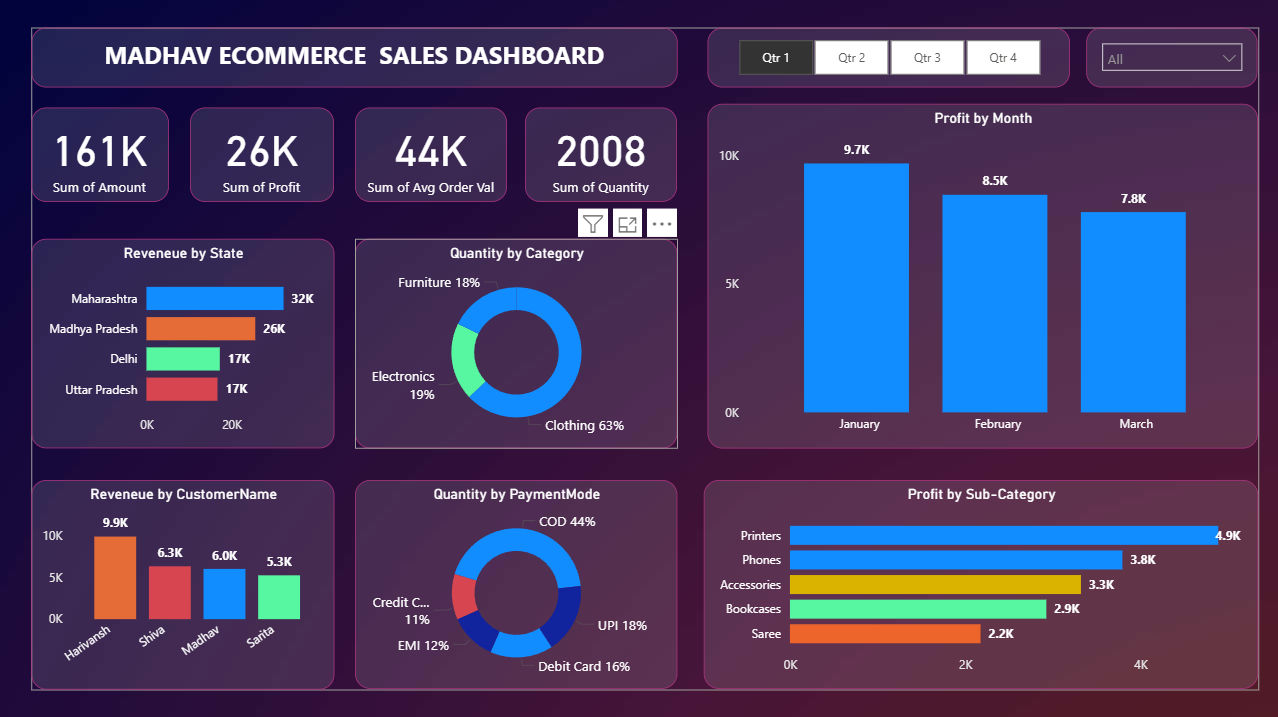

What the dashboard file says about the page in this screenshot:
{"tool":"powerbi","page":{"name":"Page 1","canvas":[1280,720],"ordinal":0},"visuals":[{"type":"textbox","box":[31.6,27.4,646.3,60.4],"z":0,"group":"g1"},{"type":"columnChart","title":"Profit by Month","fields":{"Category":["Orders.Order Date.Variation.Date Hierarchy.Month"],"Y":["Sum(Details.Profit)"]},"box":[708.1,104.2,550.3,344.4],"z":1000,"group":"g1"},{"type":"barChart","title":"Profit by Sub-Category","fields":{"Category":["Details.Sub-Category"],"Y":["Sum(Details.Profit)"]},"box":[704,480.2,554.4,208.6],"z":2000,"group":"g1"},{"type":"donutChart","title":"Quantity by PaymentMode","fields":{"Y":["Sum(Details.Quantity)"],"Category":["Details.PaymentMode"]},"box":[355.4,480.2,322.5,208.6],"z":3000,"group":"g1"},{"type":"donutChart","title":"Quantity by Category","fields":{"Category":["Details.Category"],"Y":["Sum(Details.Quantity)"]},"box":[355.4,238.7,322.5,209.9],"z":4000,"group":"g1"},{"type":"card","fields":{"Values":["Sum(Details.Amount)"]},"box":[31.6,107,137.2,94.7],"z":5000,"group":"g1"},{"type":"card","fields":{"Values":["Sum(Details.Profit)"]},"box":[190.8,107,144.1,94.7],"z":6000,"group":"g1"},{"type":"card","fields":{"Values":["Sum(Details.Quantity)"]},"box":[525.6,107,152.3,94.7],"z":7000,"group":"g1"},{"type":"card","fields":{"Values":["Sum(Details.Avg Order Val)"]},"box":[355.4,107,152.3,94.7],"z":8000,"group":"g1"},{"type":"barChart","title":"Reveneue by State","fields":{"Y":["Sum(Details.Amount)"],"Category":["Orders.State"]},"box":[31.6,238.7,303.3,209.9],"z":9000,"group":"g1"},{"type":"columnChart","title":"Reveneue by CustomerName","fields":{"Y":["Sum(Details.Amount)"],"Category":["Orders.CustomerName"]},"box":[31.6,480.2,303.3,209.9],"z":10000,"group":"g1"},{"type":"slicer","fields":{"Values":["Orders.Order Date.Variation.Date Hierarchy.Quarter"]},"box":[708.1,27.4,362.3,60.4],"z":11000,"group":"g1"},{"type":"slicer","fields":{"Values":["Orders.City"]},"box":[1086.8,27.4,171.5,60.4],"z":12000,"group":"g1"},{"type":"group","id":"g1","title":"Group 1","box":[31.6,27.4,1226.8,662.8],"z":12001}]}

Visuals, with their boxes in screenshot pixels (x1, y1, x2, y2), scaled from the page's 1280x720 canvas onto the 1278x717 screenshot:
textbox: (32, 27, 677, 87)
"Profit by Month" columnChart: (707, 104, 1256, 447)
"Profit by Sub-Category" barChart: (703, 478, 1256, 686)
"Quantity by PaymentMode" donutChart: (355, 478, 677, 686)
"Quantity by Category" donutChart: (355, 238, 677, 447)
card - Sum(Details.Amount): (32, 107, 169, 201)
card - Sum(Details.Profit): (191, 107, 334, 201)
card - Sum(Details.Quantity): (525, 107, 677, 201)
card - Sum(Details.Avg Order Val): (355, 107, 507, 201)
"Reveneue by State" barChart: (32, 238, 334, 447)
"Reveneue by CustomerName" columnChart: (32, 478, 334, 687)
slicer - Orders.Order Date.Variation.Date Hierarchy.Quarter: (707, 27, 1069, 87)
slicer - Orders.City: (1085, 27, 1256, 87)
"Group 1" group: (32, 27, 1256, 687)
